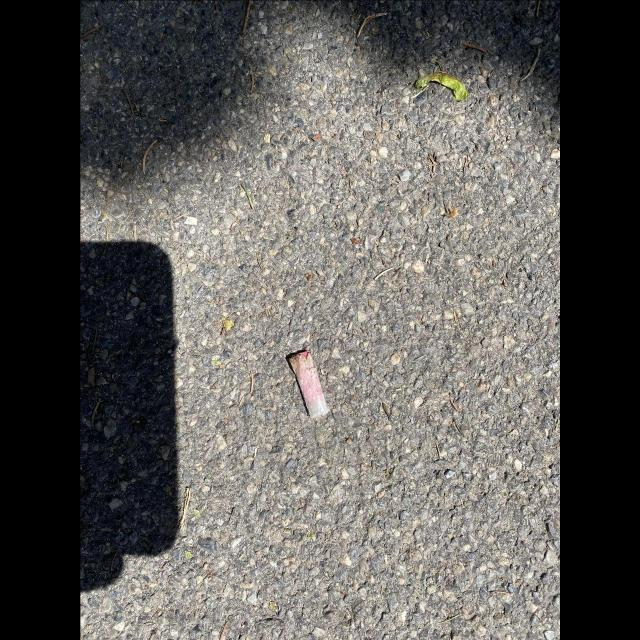cigarette: (287, 350, 330, 420)
